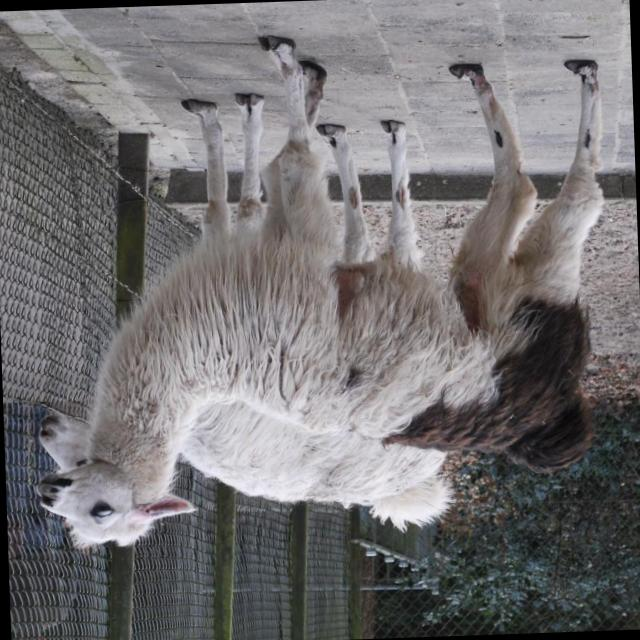alpaca: (22, 25, 617, 549)
